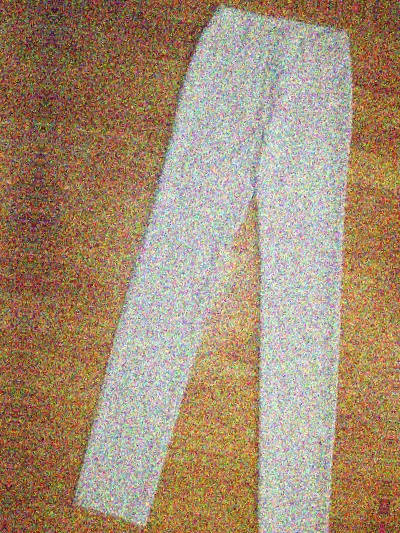Pants: (64, 0, 386, 533), (117, 0, 400, 1)
